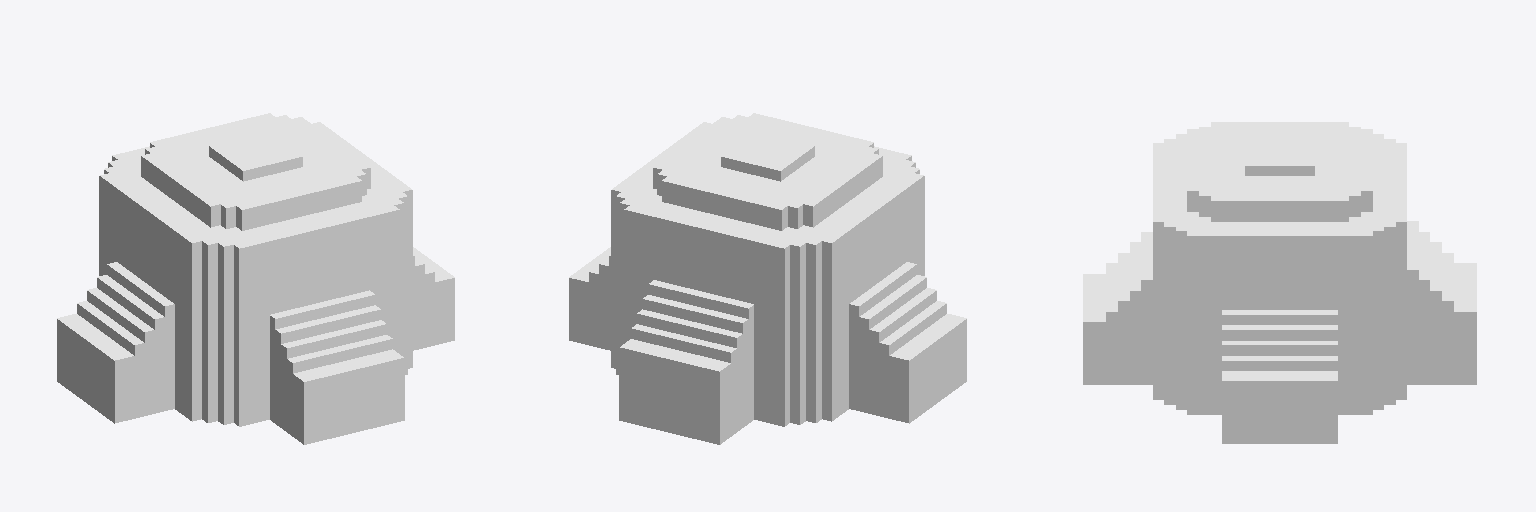
Rendered from WeaponBuildingBottom.obj.
3 views of the same model, side by side, from view 1: azimuth 30°, elevation 25°; view 2: azimuth 150°, elevation 25°; view 3: azimuth 270°, elevation 25° (orthographic).
Size of the model in its own units: 34 by 20 by 34.